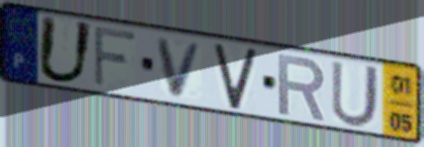F: (92, 24, 139, 90)
R: (275, 51, 328, 123)
U: (34, 13, 97, 86), (329, 58, 382, 130)
V: (211, 42, 260, 112), (155, 36, 206, 100)
